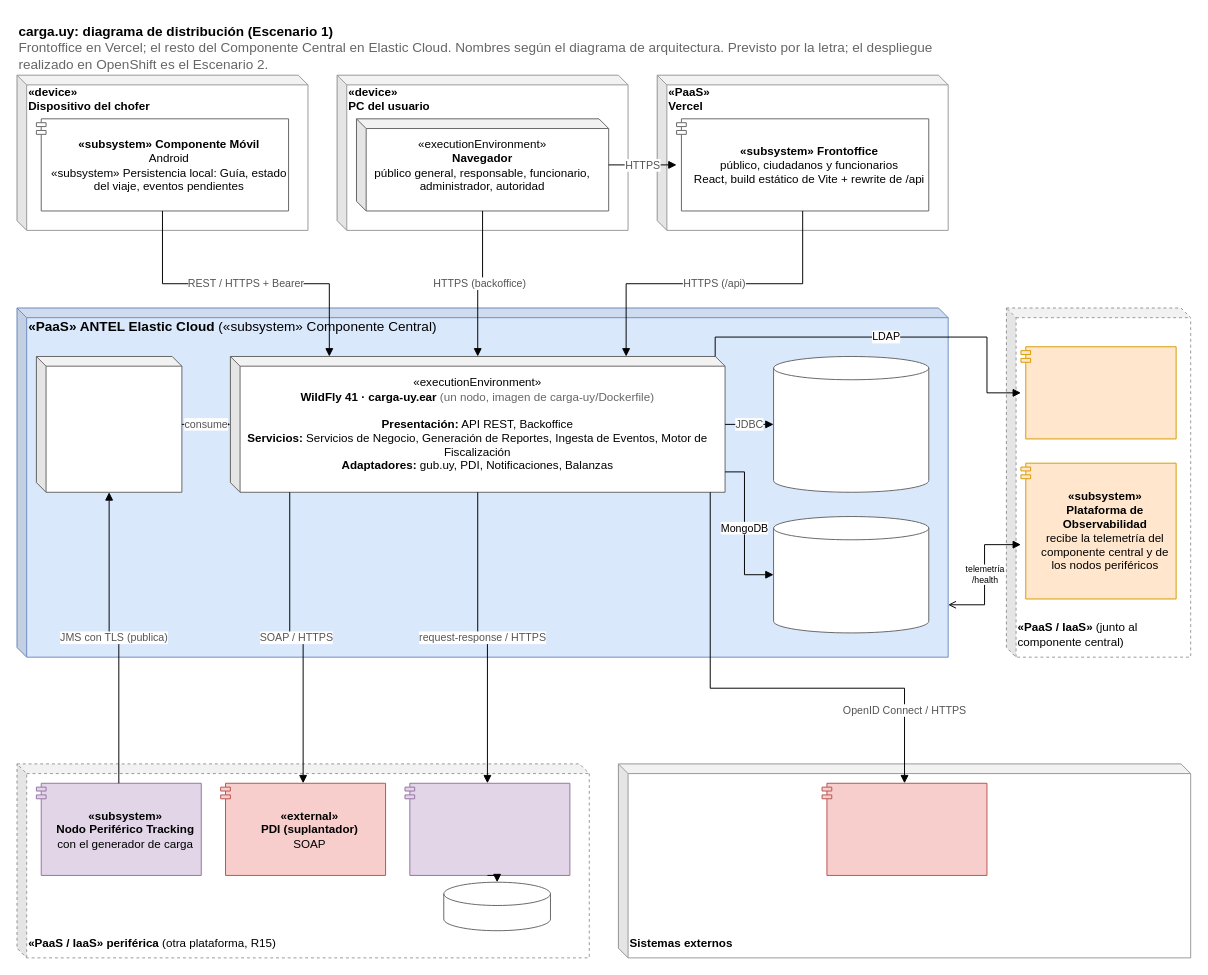
The diagram is 1208 pixels wide and 975 high, and some of its shapes have lost their labels. The centre of each missing label's shape, as x and y in pixels:
"MongoDB «subsystem» Almacén de Posiciones" goes at (x=851, y=574).
"PostgreSQL 17 «subsystem» Persistencia" goes at (x=851, y=424).
"«database» pesajes" goes at (x=496, y=906).
"«executionEnvironment» Broker Artemis contenedor propio con volumen" goes at (x=108, y=424).
"«external» Usuario gub.uy (ID Uruguay)" goes at (x=904, y=828).
"«subsystem» Directorio LDAP usuarios del backoffice" goes at (x=1098, y=392).
"«subsystem» Nodo Periférico Balanzas" goes at (x=487, y=828).
